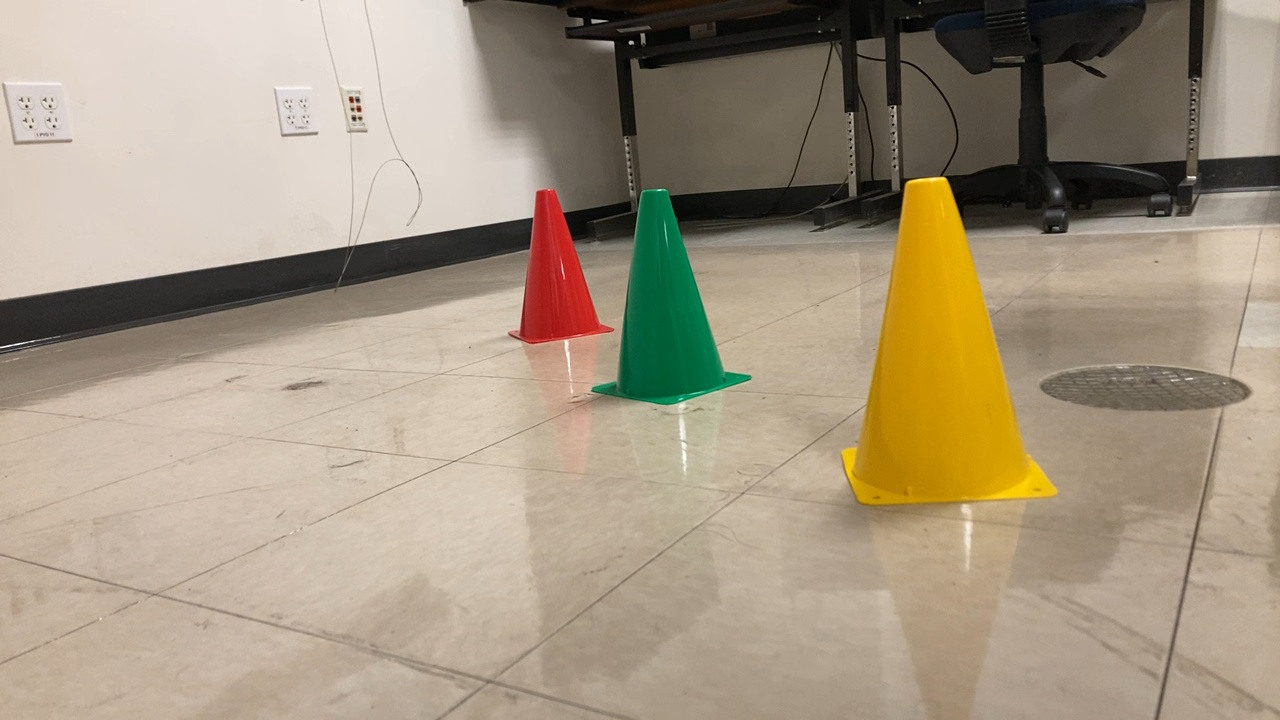green_cone: (590, 183, 754, 415)
red_cone: (496, 183, 619, 348)
yellow_cone: (832, 168, 1063, 508)
